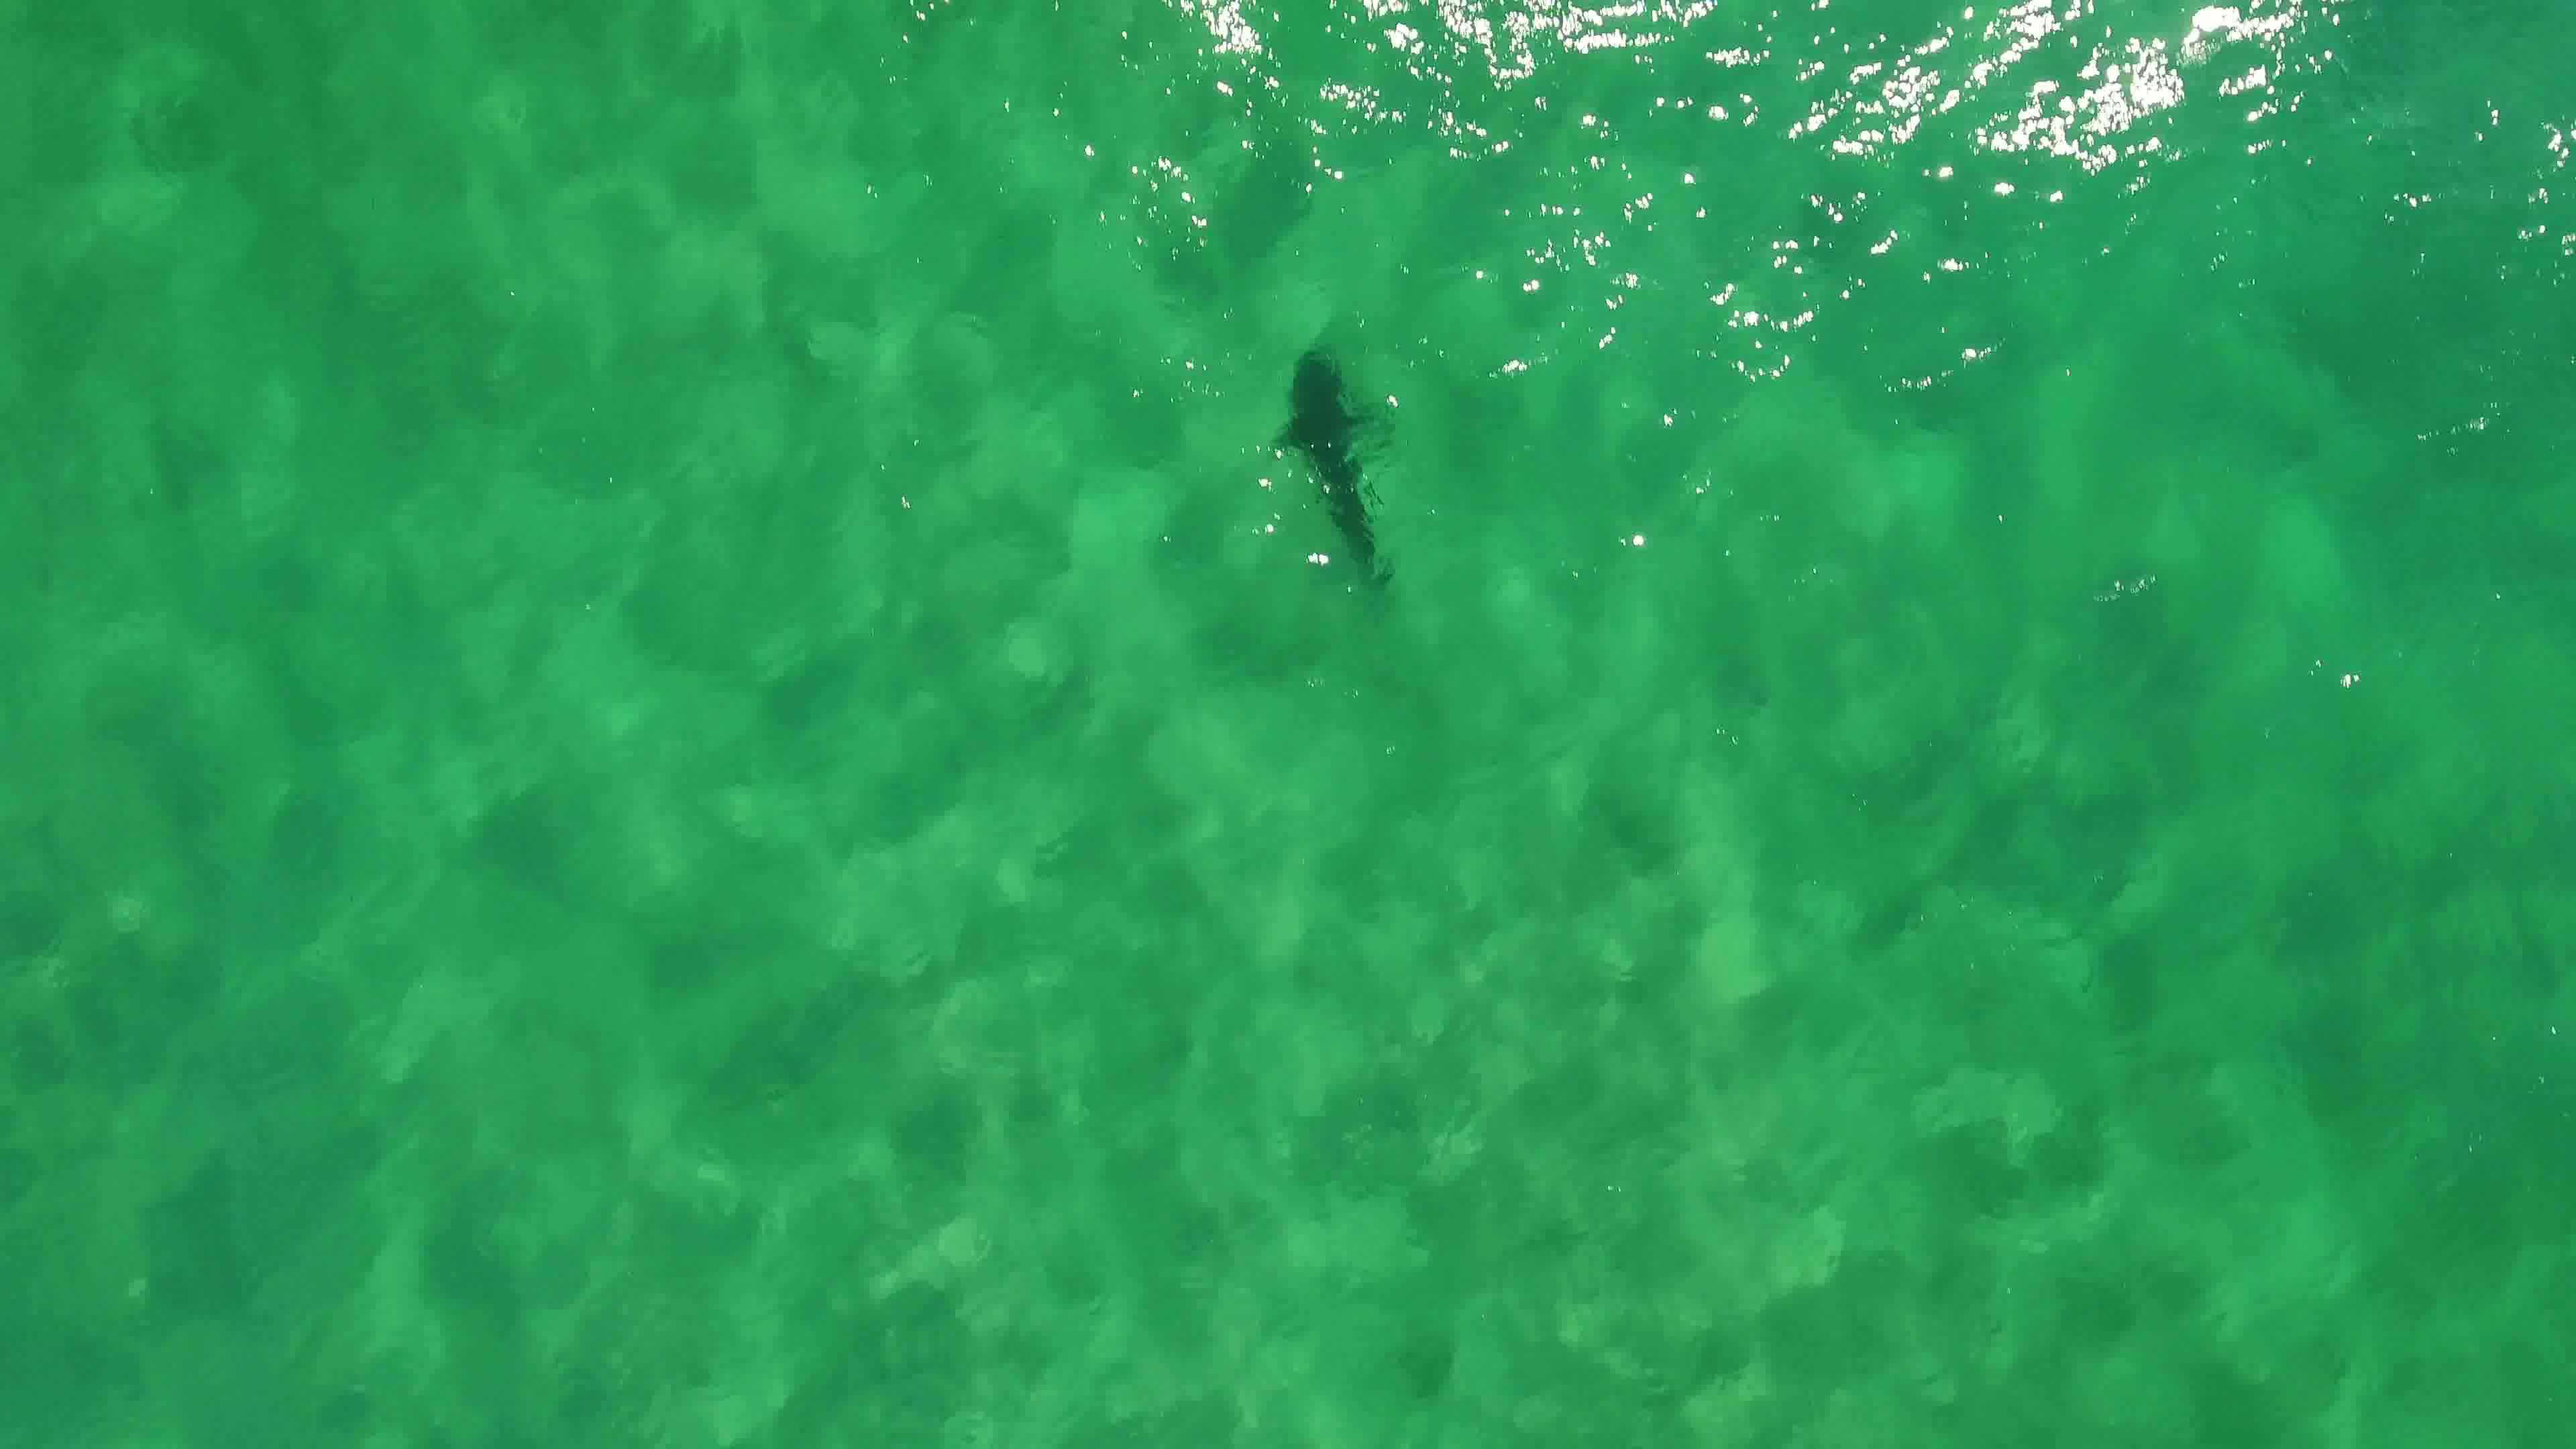shark: (1253, 341, 1407, 600)
